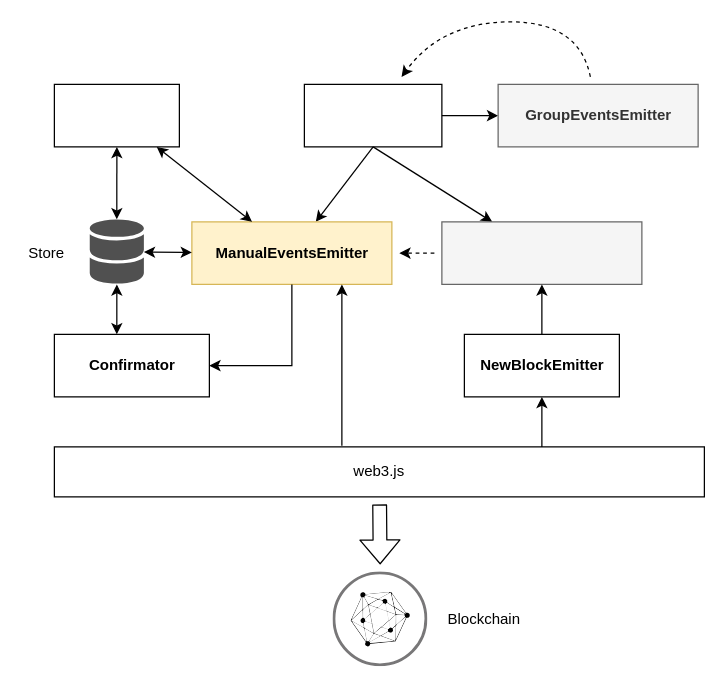
Image size: 726x689. Some labels were removed from this diagram. The centre of each missing label's shape, as x and y in pixels:
AutoEventsEmitter: the point at 541,252
BlockTracker: the point at 116,115
«interface» EventsFetcher: the point at 372,115
